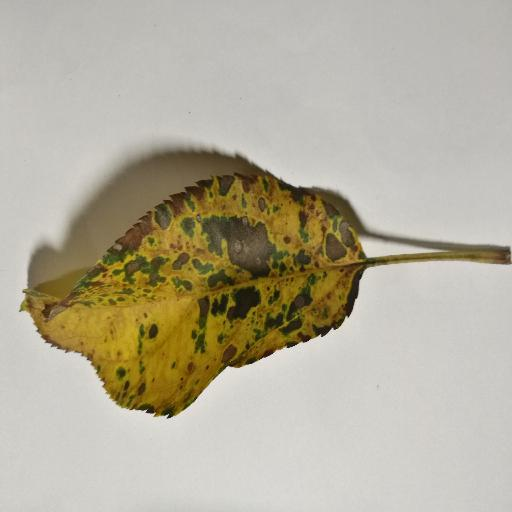Brown_Spot: (100, 178, 347, 352)
